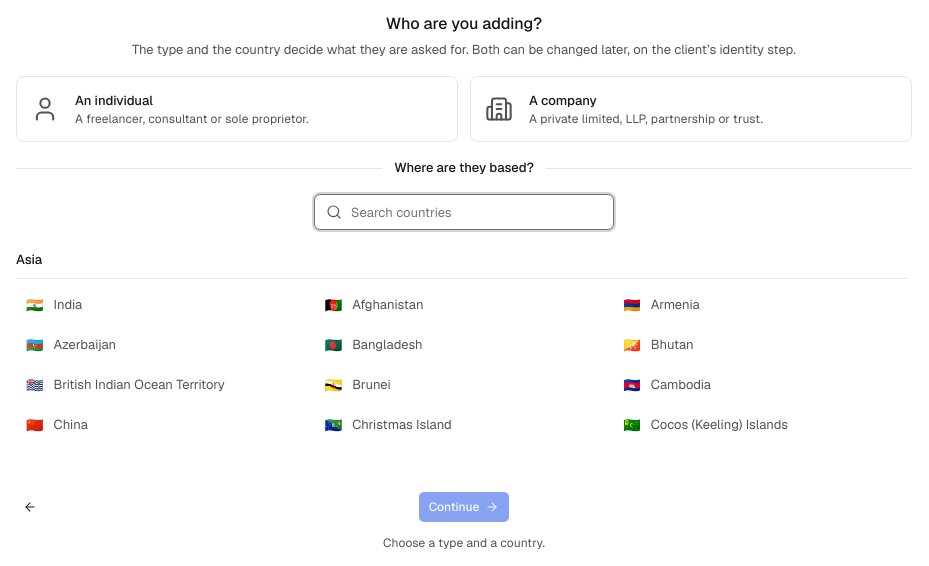
CountryChooser › says so when nothing matches
Type "atlantis" into the search field labelled "Search countries" at (464, 212), box [314,194,614,230]
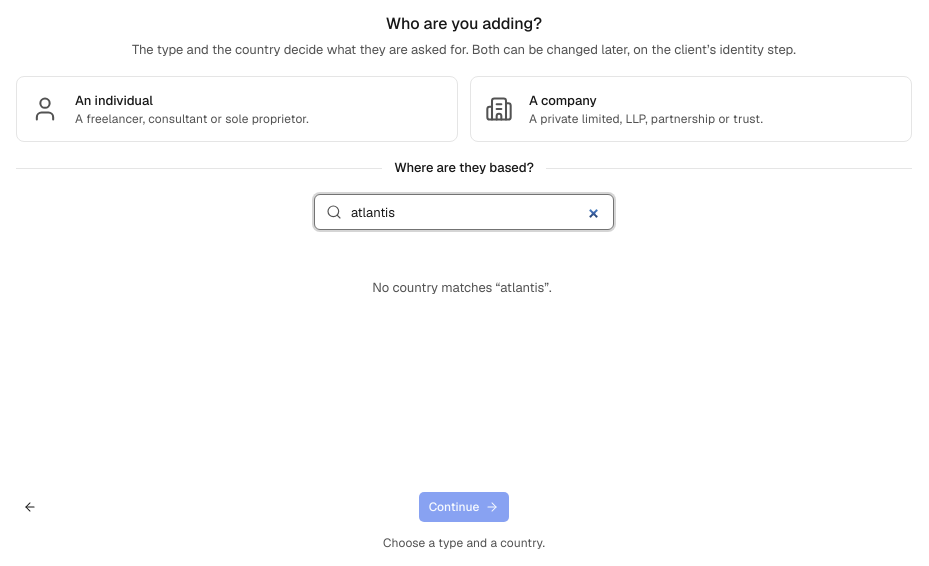
Check: the text "No country matches “atlantis”." is shown, box [372,279,552,296]
